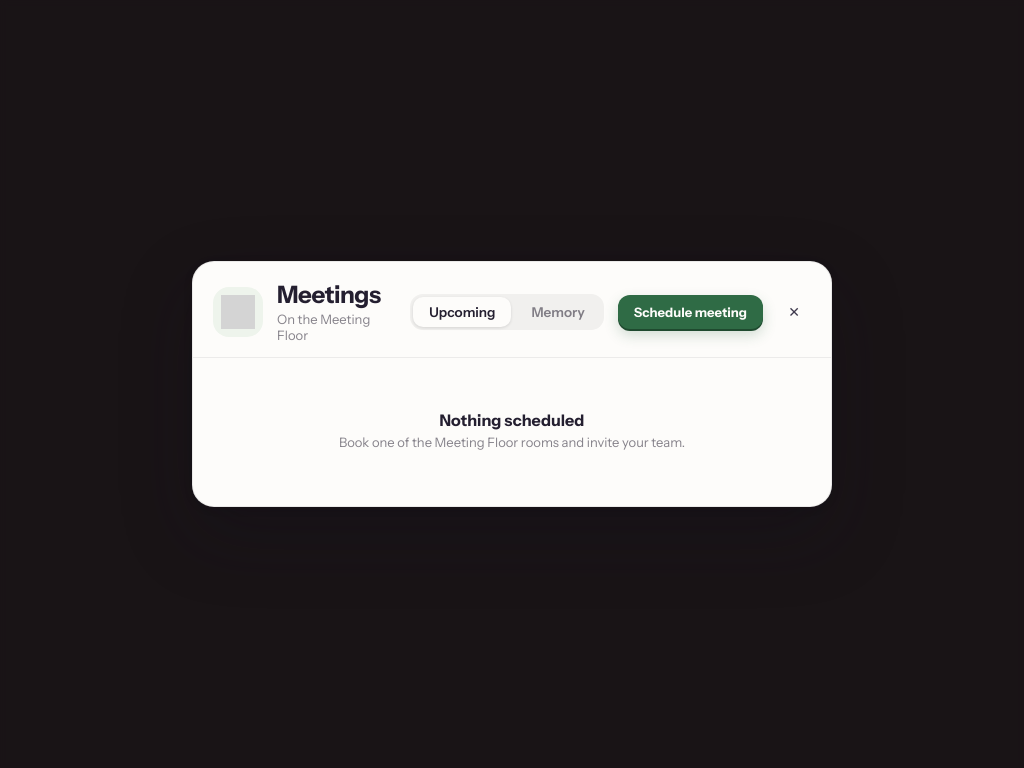
Test: MeetingMemory › loads older pages from the server cursor and appends them
Click the tab "Memory": (558, 312) [516,296,601,326]
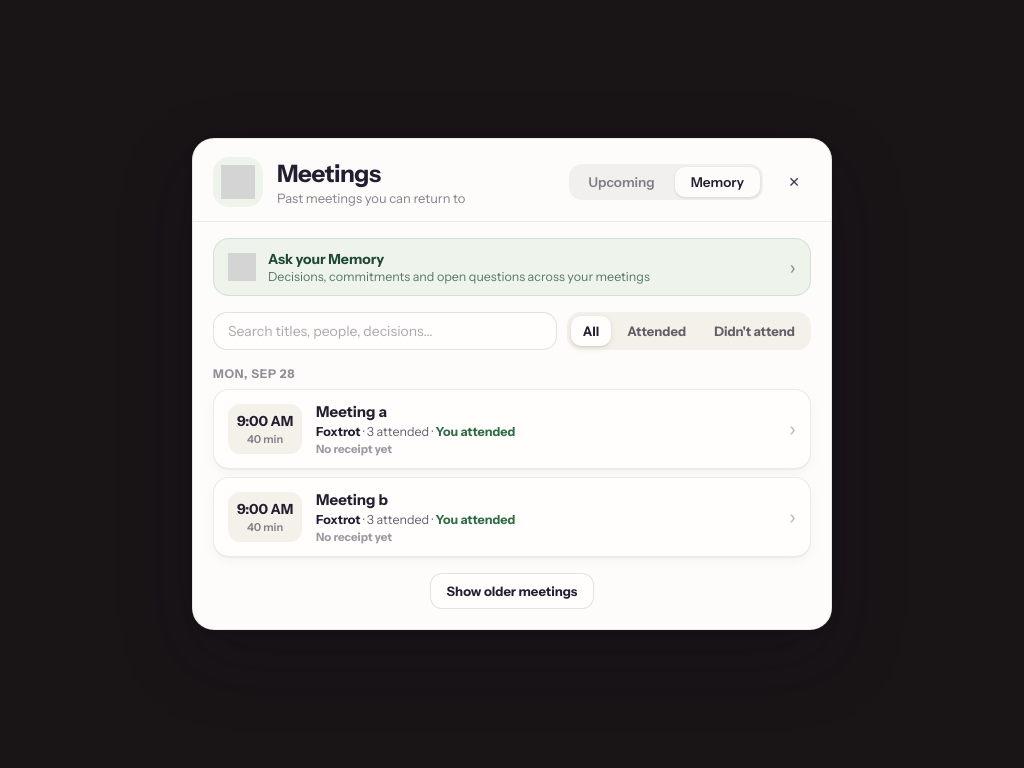
Now the number of buttons with test id "memory-row" is 2, box [213,389,811,469]; [213,477,811,557]
Click the button with test id "memory-more": (512, 591) [430,573,594,609]
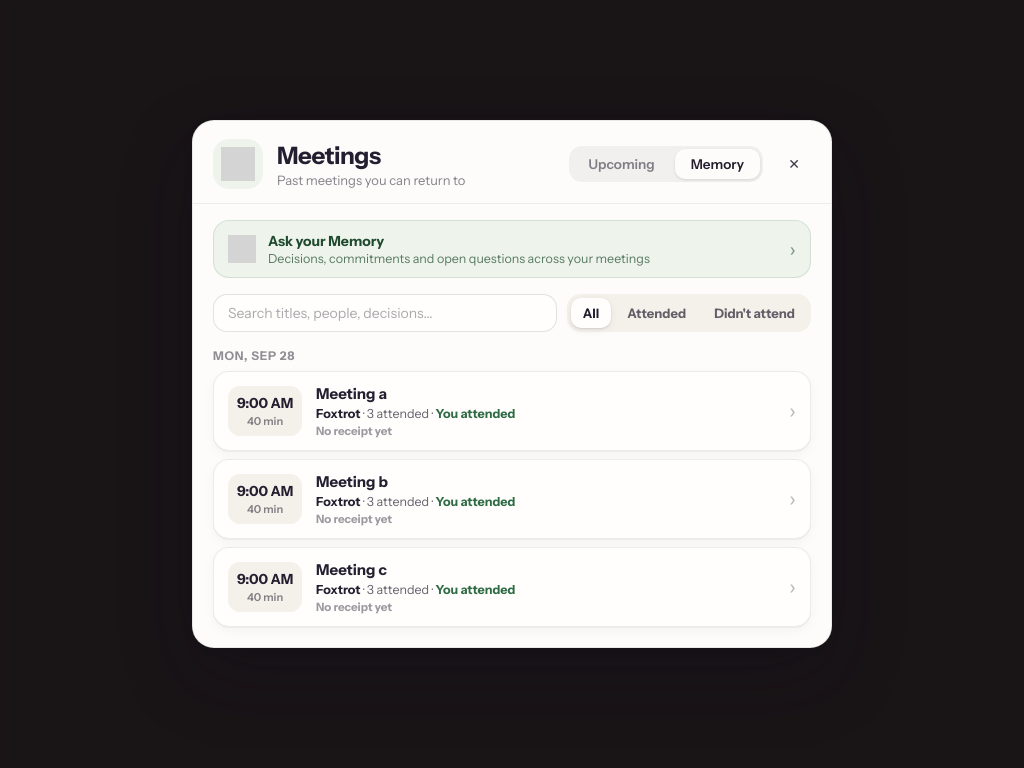
Now the number of buttons with test id "memory-row" is 3, box [213,371,811,451]; [213,459,811,539]; [213,547,811,627]
Now the button with test id "memory-more" is gone
